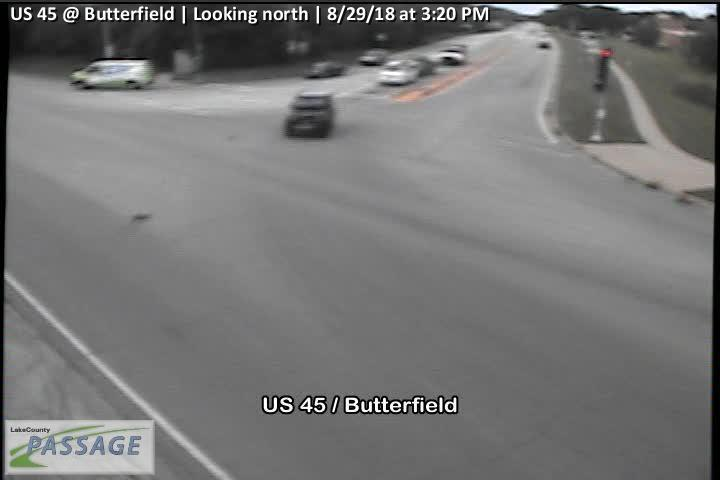SUV: (68, 57, 155, 90), (284, 91, 336, 139), (439, 43, 469, 65), (536, 37, 552, 50)
Sedan: (379, 59, 421, 85), (303, 59, 344, 80), (357, 48, 388, 66), (418, 57, 439, 73)
